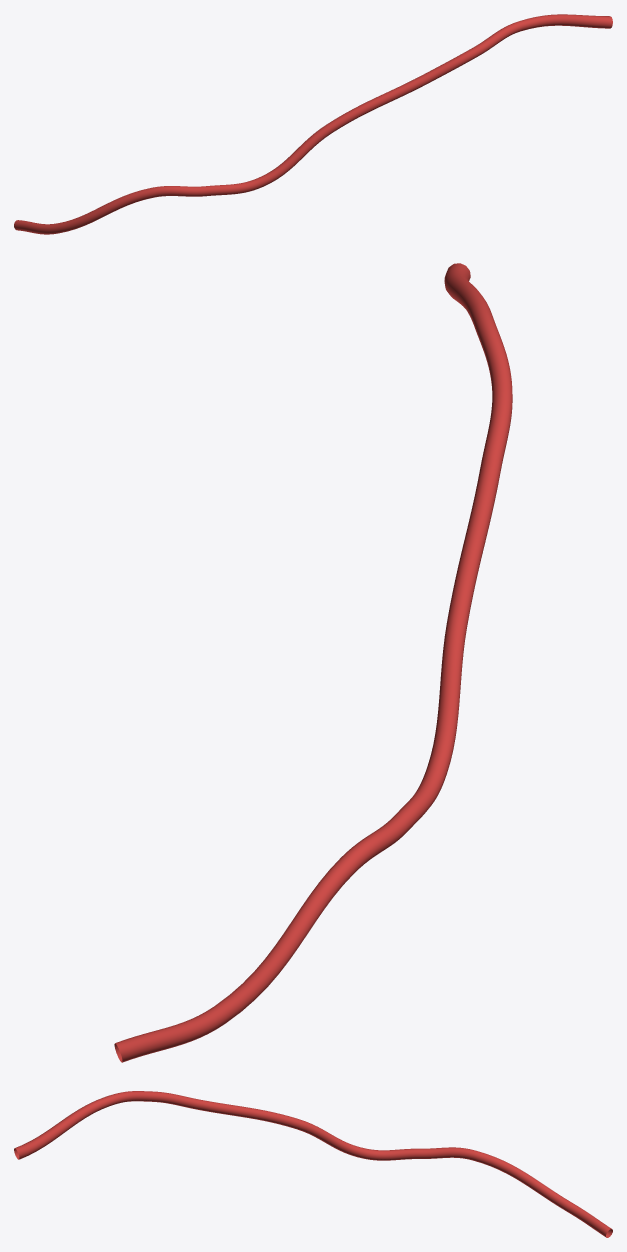
The picture shows the model from 3 angles, top to bottom: view 1: azimuth 90°, elevation 25°; view 2: azimuth 150°, elevation 25°; view 3: azimuth 270°, elevation 25°; orthographic projection. The views are drawn at different scales.
Visible parts, largest first — view 1: 右侧桡侧副动脉; view 2: 右侧桡侧副动脉; view 3: 右侧桡侧副动脉.
Part boxes in pixels (left/top/right/bottom): 右侧桡侧副动脉: left=14, top=14, right=612, bottom=234; 右侧桡侧副动脉: left=114, top=263, right=512, bottom=1062; 右侧桡侧副动脉: left=14, top=1091, right=612, bottom=1237.
Bounding box in the file's own units: 0.075 × 0.0681 × 0.2118.
